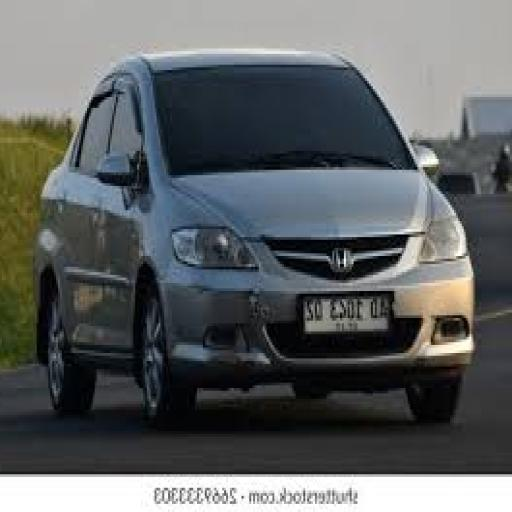License: (296, 288, 396, 341)
